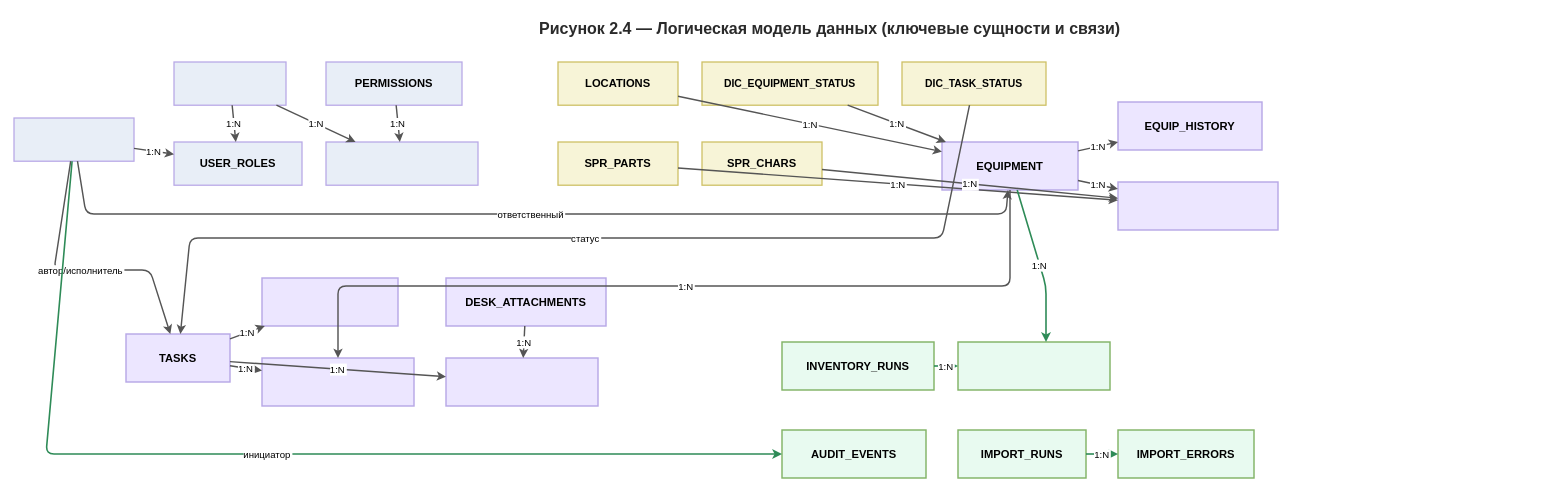
Image size: 1548x492. Some labels were removed from this diagram. Here are the shapes that lost their labels. From the top down, the centre of each, then its label:
At point 229,83: "ROLES".
At point 73,139: "USERS".
At point 401,163: "ROLE_PERMISSIONS".
At point 1197,205: "PART_CHAR_VALUES".
At point 329,301: "TASK_HISTORY".
At point 337,381: "TASK_EQUIPMENT".
At point 521,381: "TASK_ATTACHMENTS".
At point 1033,365: "INVENTORY_ITEMS".
